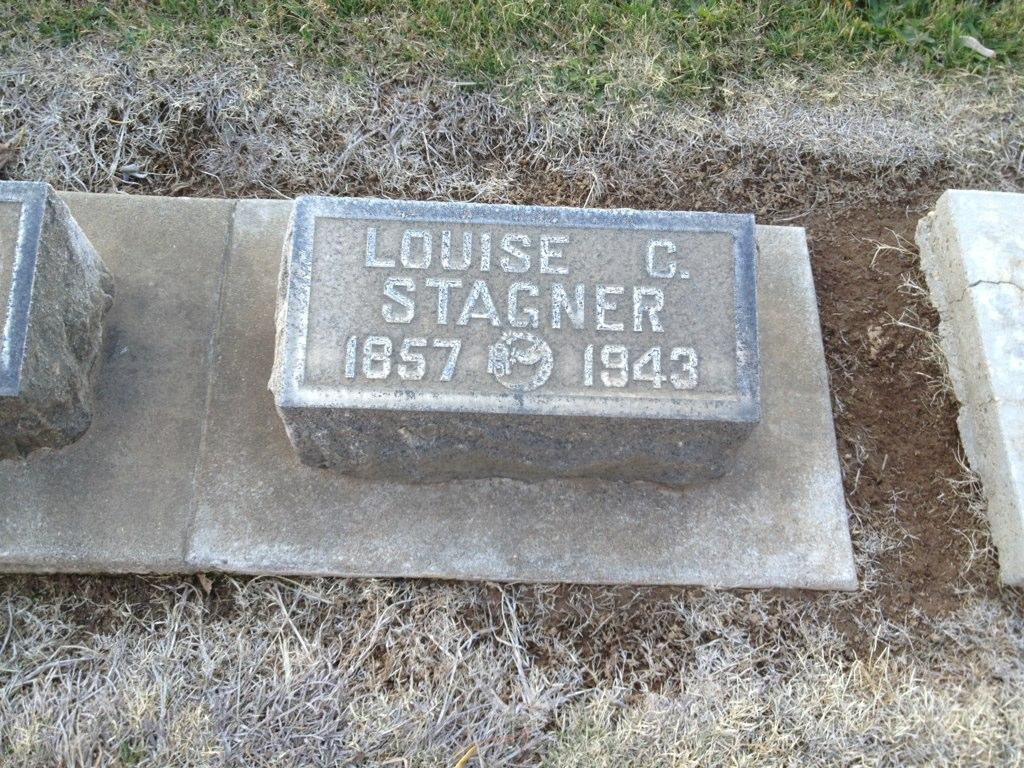flat: (200, 163, 856, 599)
